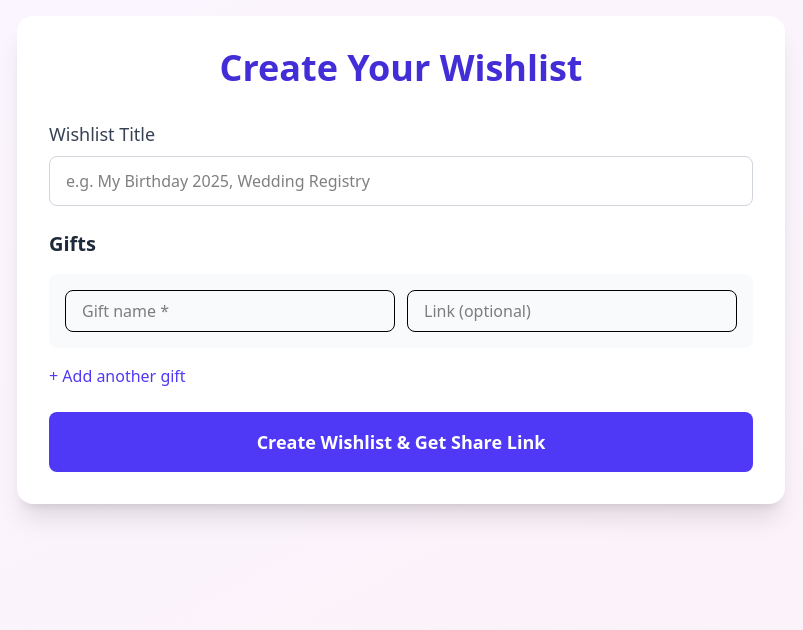
Test case: CreateWishlist Page › adds a new gift field when clicking "+ Add another gift"
The width and height of the screenshot is (803, 630).
Click the button "+ Add another gift": [117, 376] box [49, 364, 186, 388]
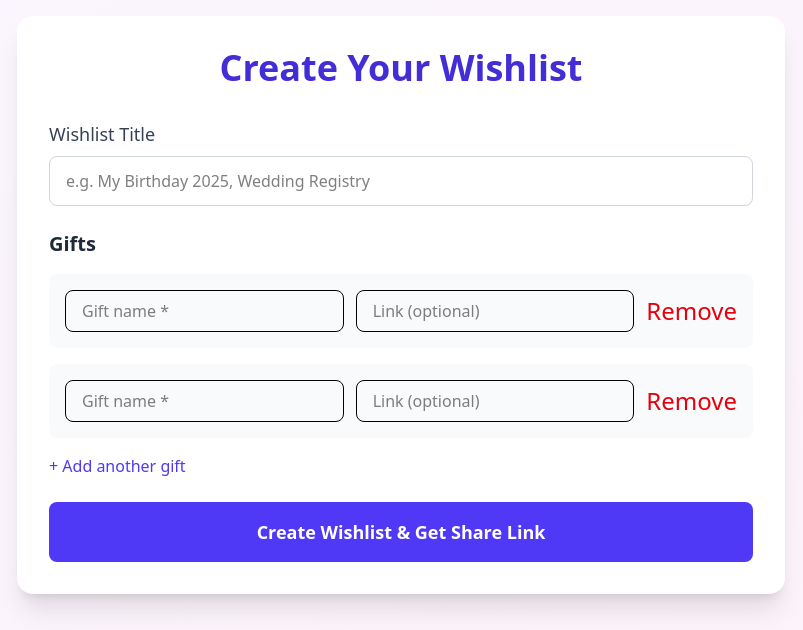
Now the number of fields with placeholder "Gift name *" is 2, box [65, 290, 344, 332]; [65, 380, 344, 422]
Now the number of fields with placeholder "Link (optional)" is 2, box [356, 290, 634, 332]; [356, 380, 634, 422]
